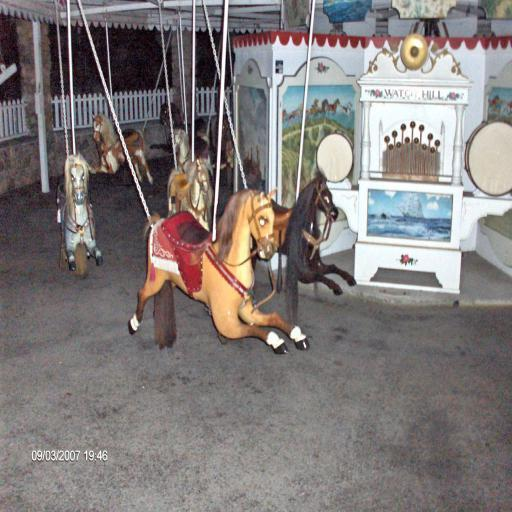horse: (130, 186, 307, 356), (250, 166, 356, 330), (58, 152, 104, 268), (92, 114, 152, 180), (168, 156, 216, 228)
